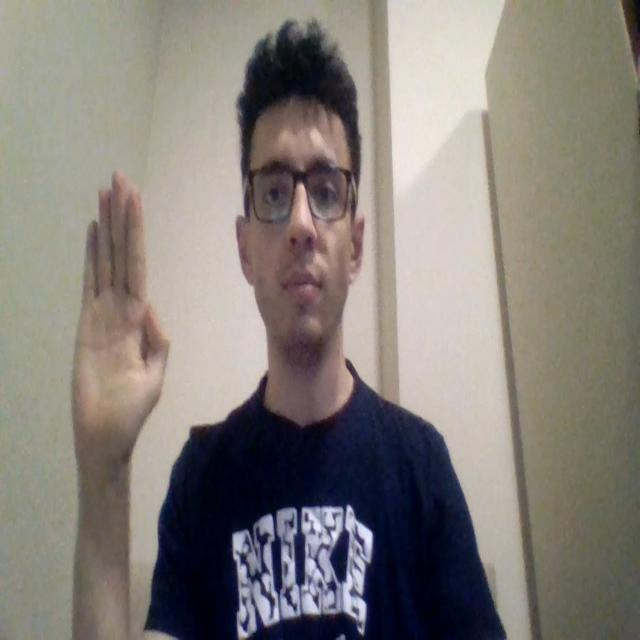hello: (70, 169, 170, 471)
